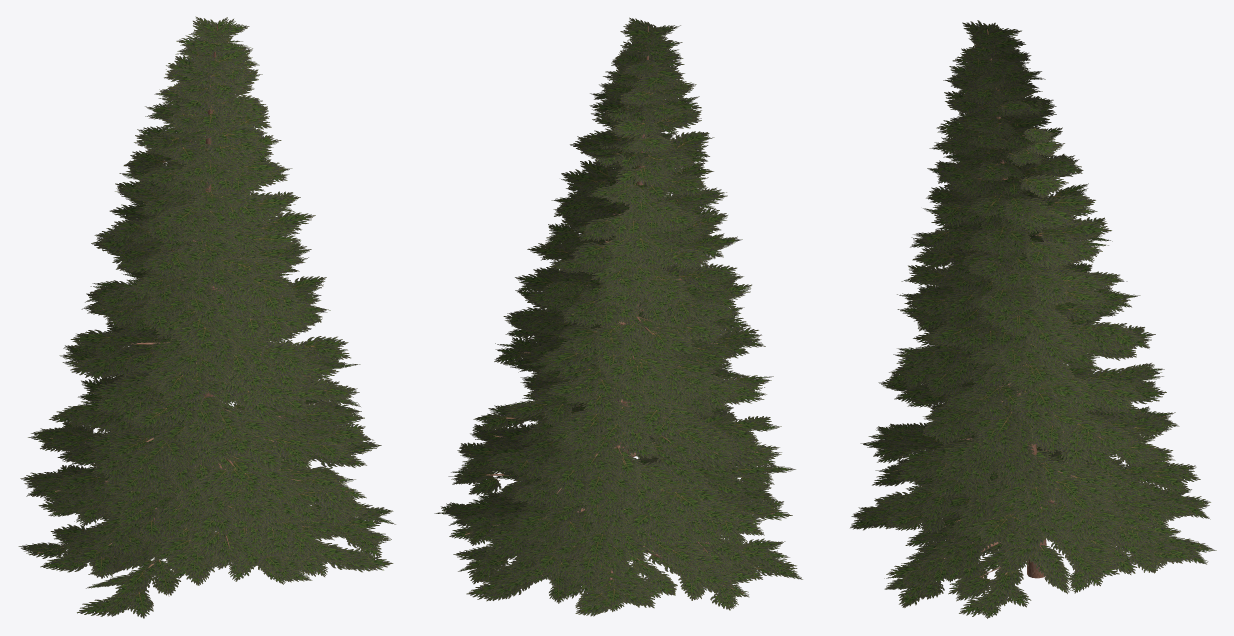
File: tree-spruce.glb
3 views of the same model, side by side, from view 1: azimuth 30°, elevation 25°; view 2: azimuth 150°, elevation 25°; view 3: azimuth 270°, elevation 25° (orthographic). The views are drawn at different scales.
Parts seen in each view (by area): view 1: leaves, bark; view 2: leaves, bark; view 3: leaves, bark.
Part boxes in pixels (x1,y1,x2,y2): leaves: [18, 16, 395, 618]; bark: [37, 25, 363, 596]; leaves: [434, 17, 802, 616]; bark: [465, 26, 774, 596]; leaves: [850, 20, 1216, 618]; bark: [893, 29, 1200, 578].
Bounding box in the file's own units: 12.8 × 19.97 × 12.67.
Materials: 2 (2 with a texture image).
